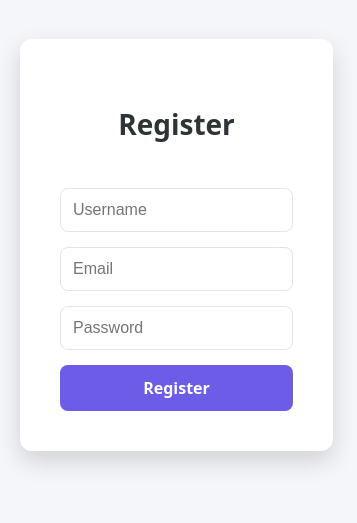
Test case: Register page › affiche un message de succès après inscription
This screenshot has width=357, height=523.
Type "john" into the field with placeholder "Username" at (176, 210), box x1=60 y1=188 x2=293 y2=232
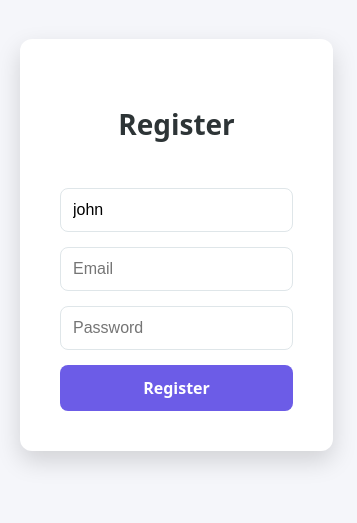
Type "john@test.com" into the field with placeholder "Email" at (176, 269), box x1=60 y1=247 x2=293 y2=291
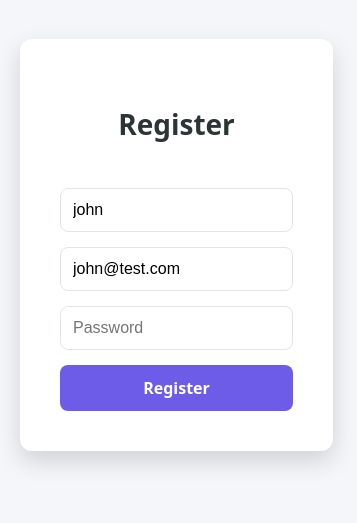
Type "12345678" into the password field with placeholder "Password" at (176, 328), box x1=60 y1=306 x2=293 y2=350
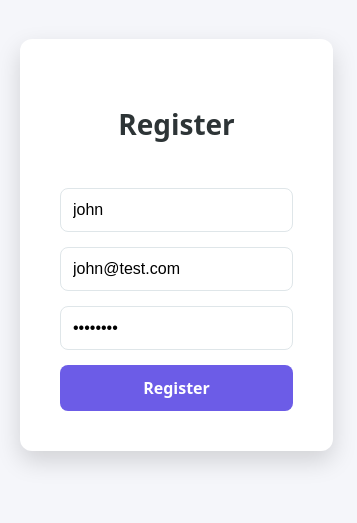
Click the button "Register" at (176, 388), box x1=60 y1=365 x2=293 y2=411
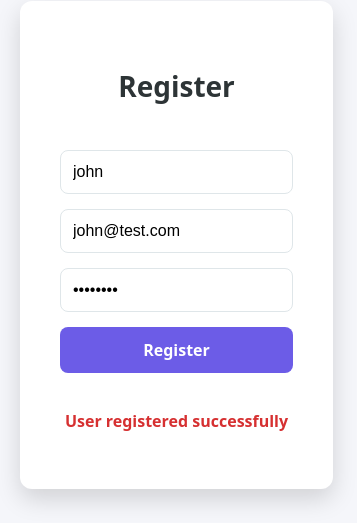
Expected: the text "User registered successfully" is shown, x1=60 y1=409 x2=293 y2=433
